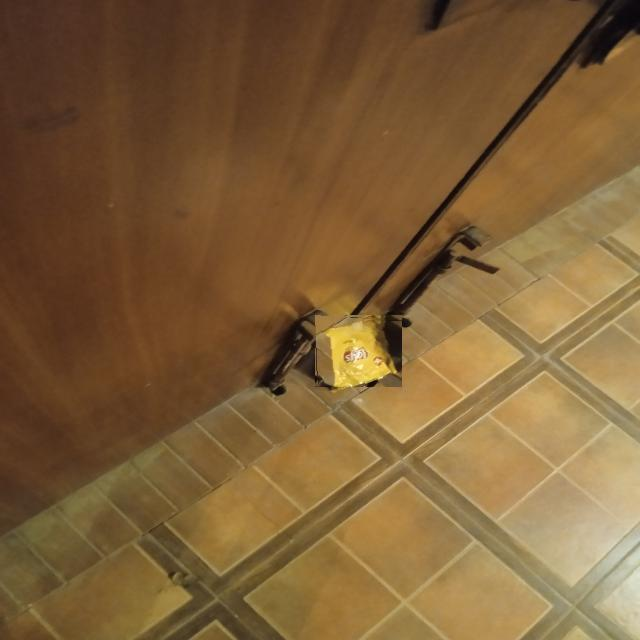Plastic: (314, 314, 402, 387)
